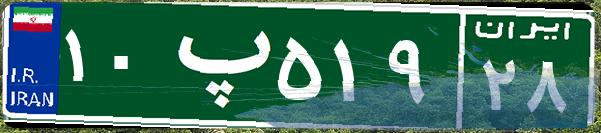0: (110, 28, 158, 105)
1: (330, 28, 385, 110), (57, 26, 110, 107)
2: (475, 38, 525, 113)
5: (273, 28, 330, 110)
8: (525, 38, 570, 115)
9: (385, 28, 445, 110)
پ: (158, 15, 273, 115)
